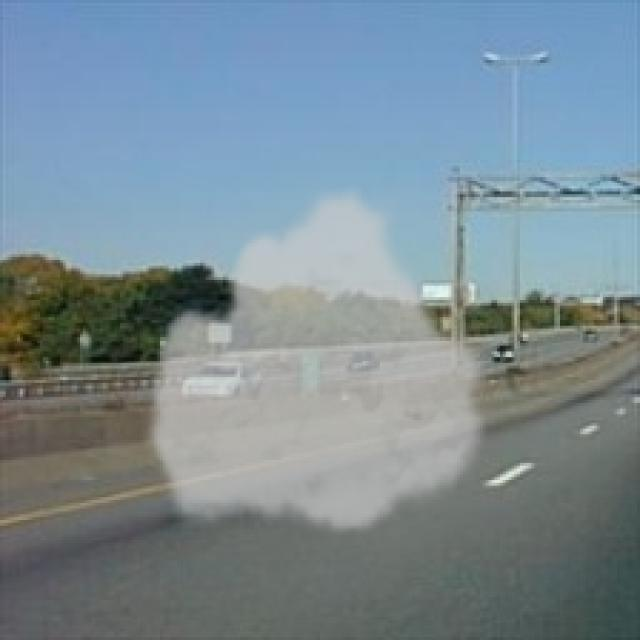Smoke: (142, 180, 498, 537)
